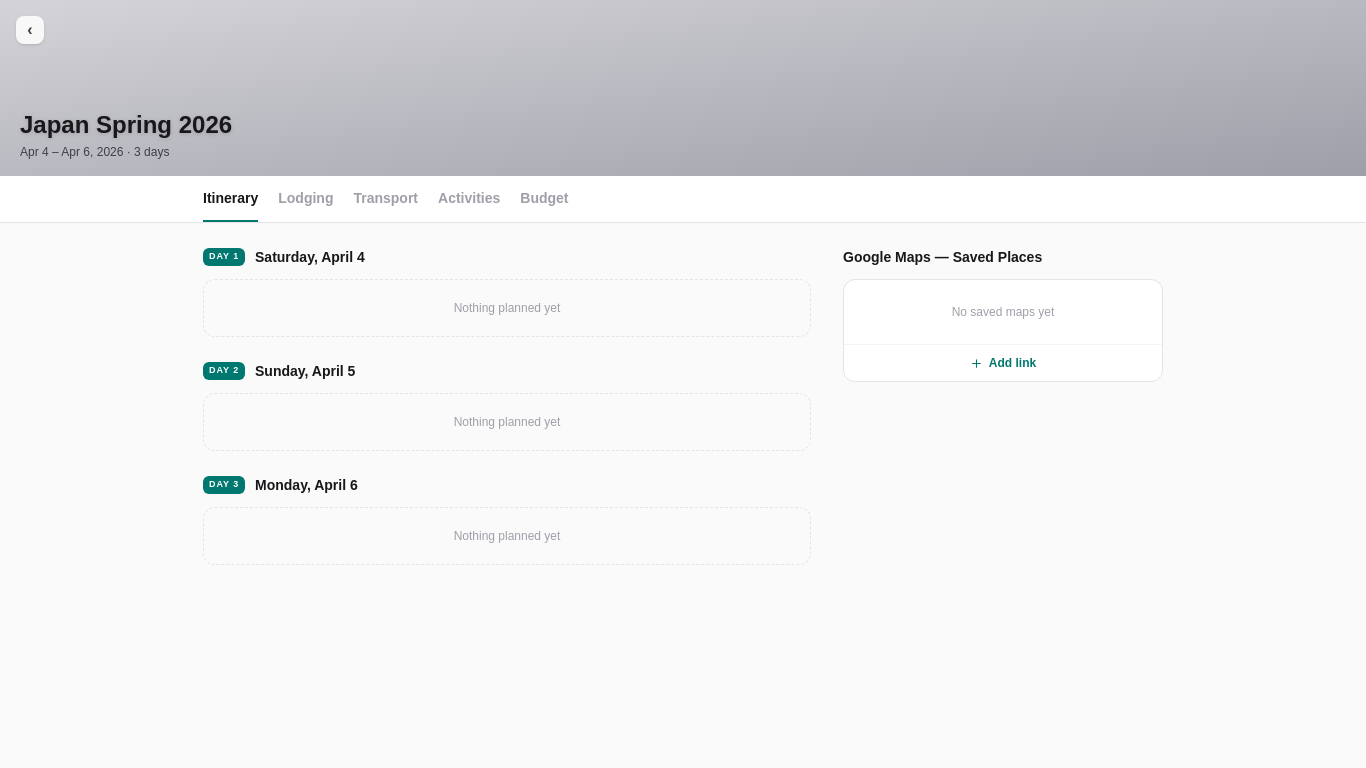
Scenario: TripPage — saved map links › rejects an empty label/url submission with inline errors
This screenshot has width=1366, height=768.
Expected: the text "No saved maps yet" is shown, [952,305,1054,319]
Click the button "Add link": click(1003, 362) [844,344,1162,381]
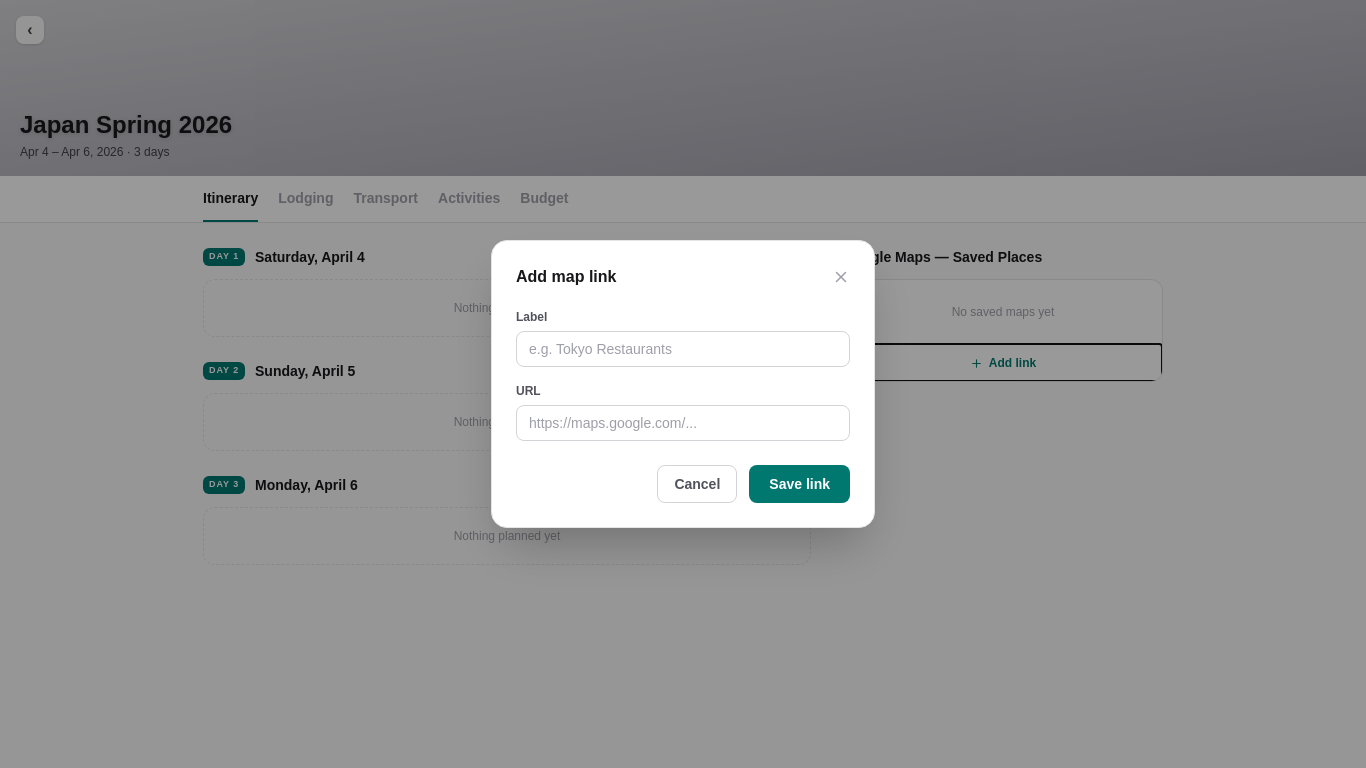
Click the button "Save link": click(800, 484) [749,465,850,503]
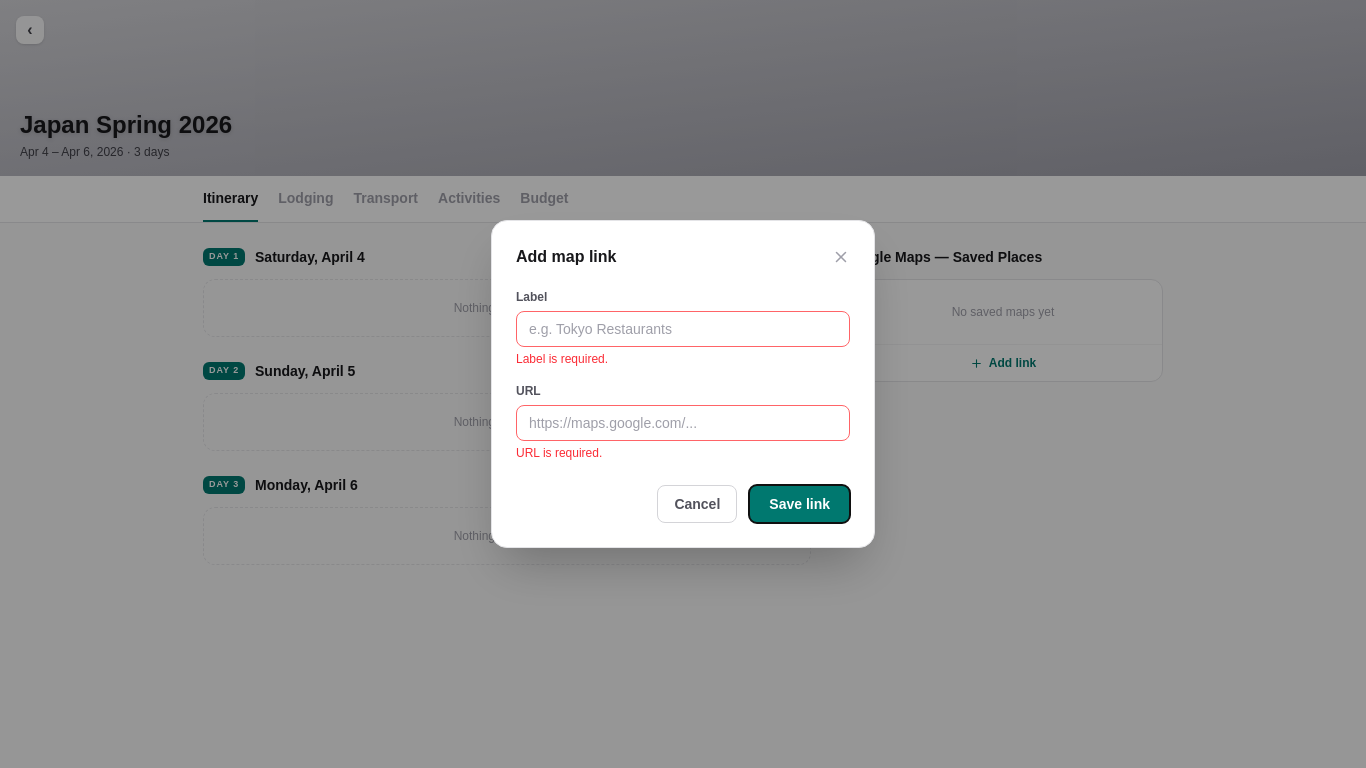
Now the text "Label is required." is shown, box [516,352,608,366]
Now the text "URL is required." is shown, box [516,446,602,460]
